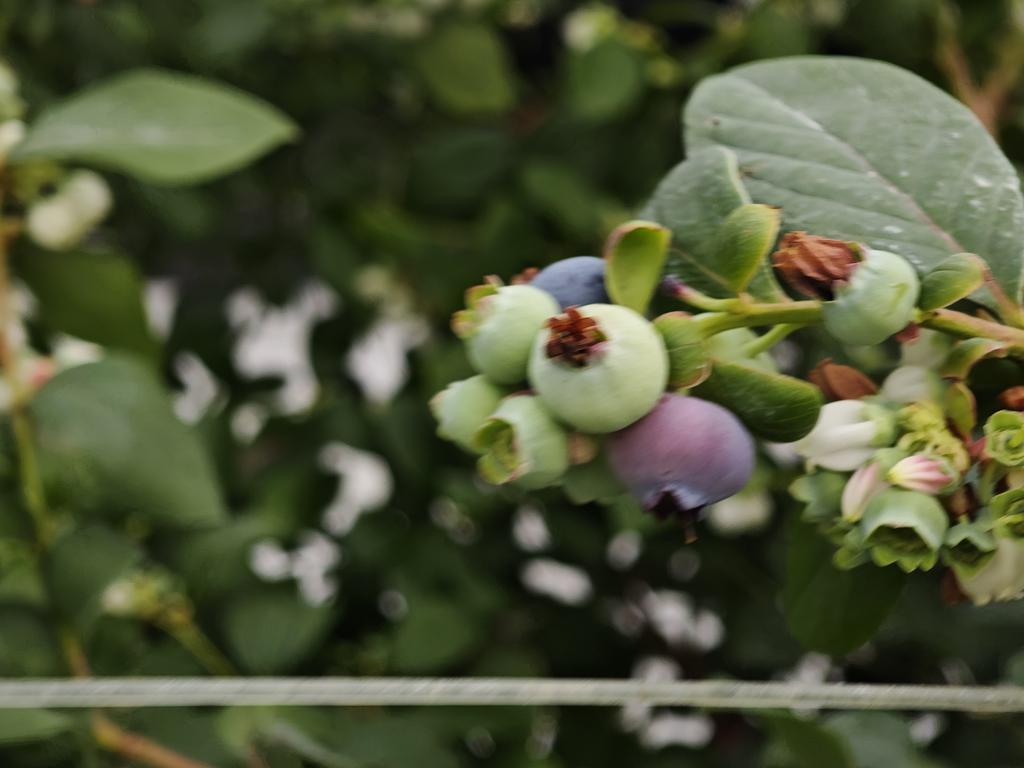Semi-RipeBlueBerry: (602, 392, 758, 515)
UnripeBlueBerry: (526, 299, 670, 436)
